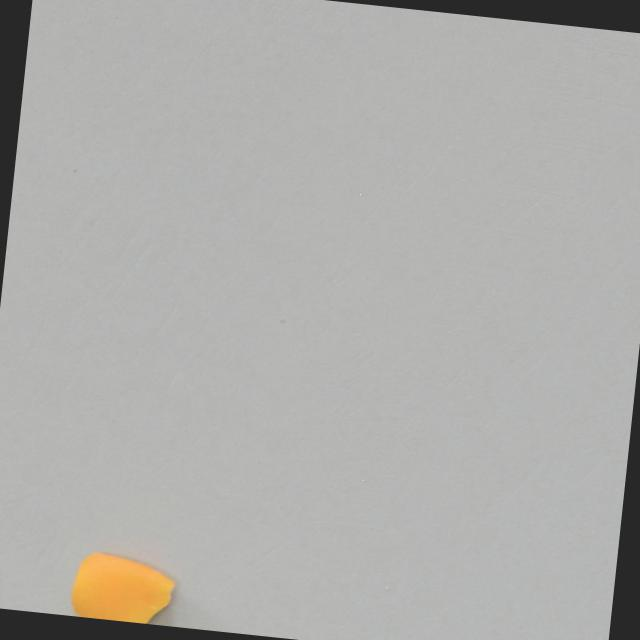dañado: (63, 531, 183, 626)
